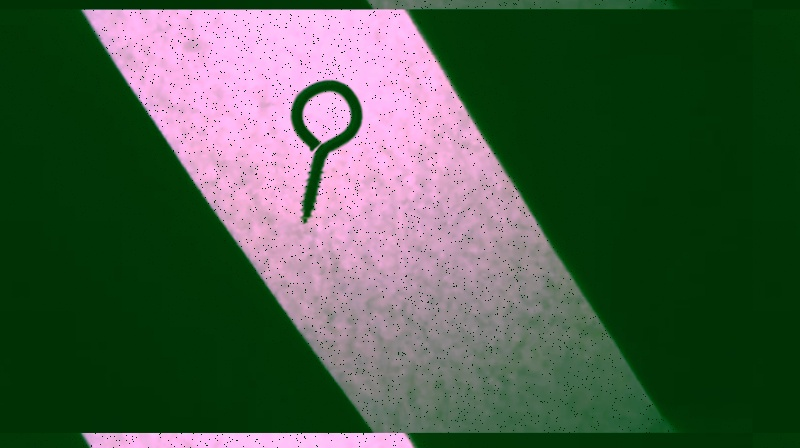O001: (285, 76, 366, 226)
